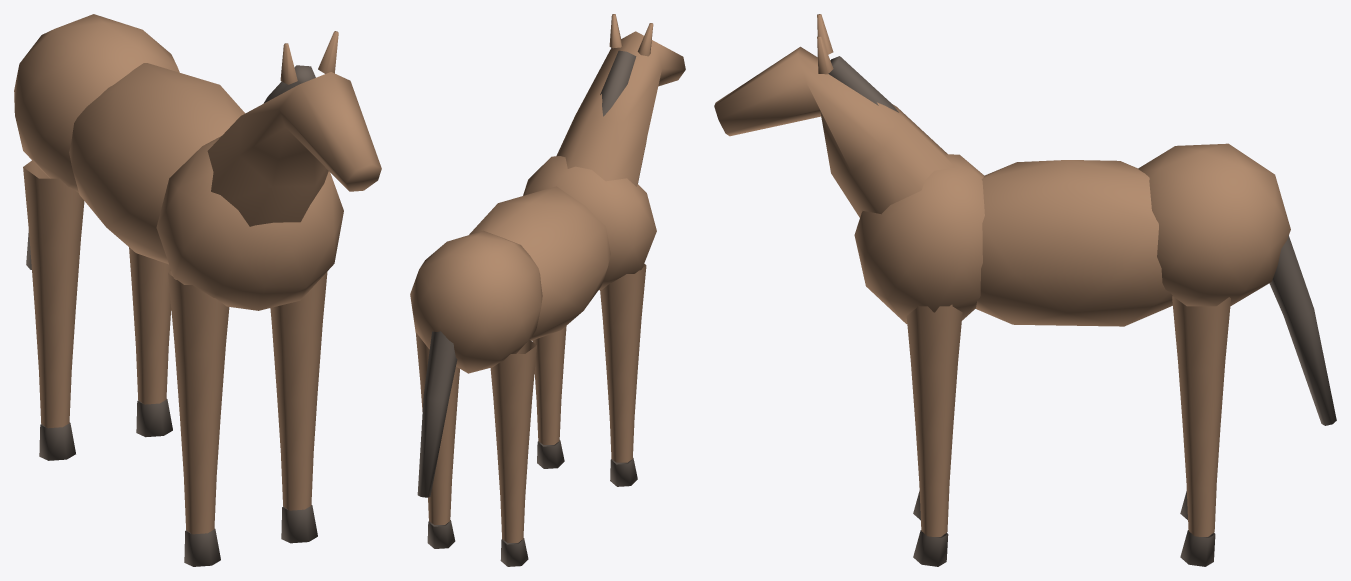
The model's file is horse_0.glb.
The picture shows the model from 3 angles, left to right: view 1: azimuth 30°, elevation 25°; view 2: azimuth 150°, elevation 25°; view 3: azimuth 270°, elevation 25°; orthographic projection. The views are drawn at different scales.
Parts seen in each view (by area): view 1: horse_0.glb; view 2: horse_0.glb; view 3: horse_0.glb.
Boxes of the visible parts, box(x1,y1,x2,y2) form: horse_0.glb: box(14, 14, 381, 566); horse_0.glb: box(410, 14, 685, 566); horse_0.glb: box(714, 14, 1336, 566).
Bounding box in the file's own units: 0.5607 × 1.87 × 2.05.
